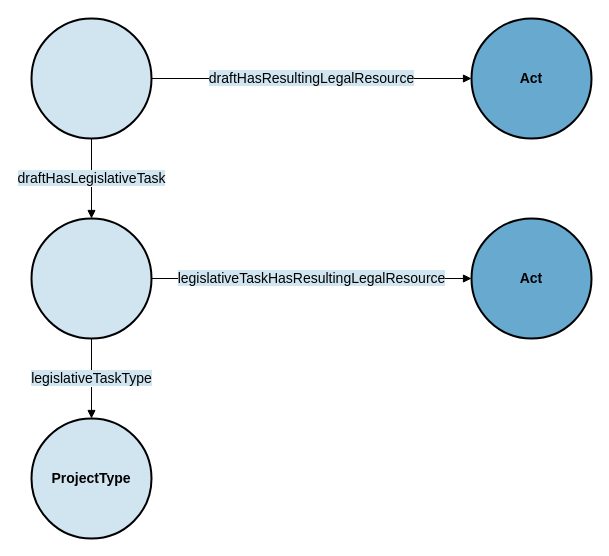
Some shapes in this 609 by 556 pixel diagram are drawn without their labels. The centre of each missing label's shape, as x and y in pixels:
"Draft" belongs at (91,78).
"LegislativeTask" belongs at (91,278).
